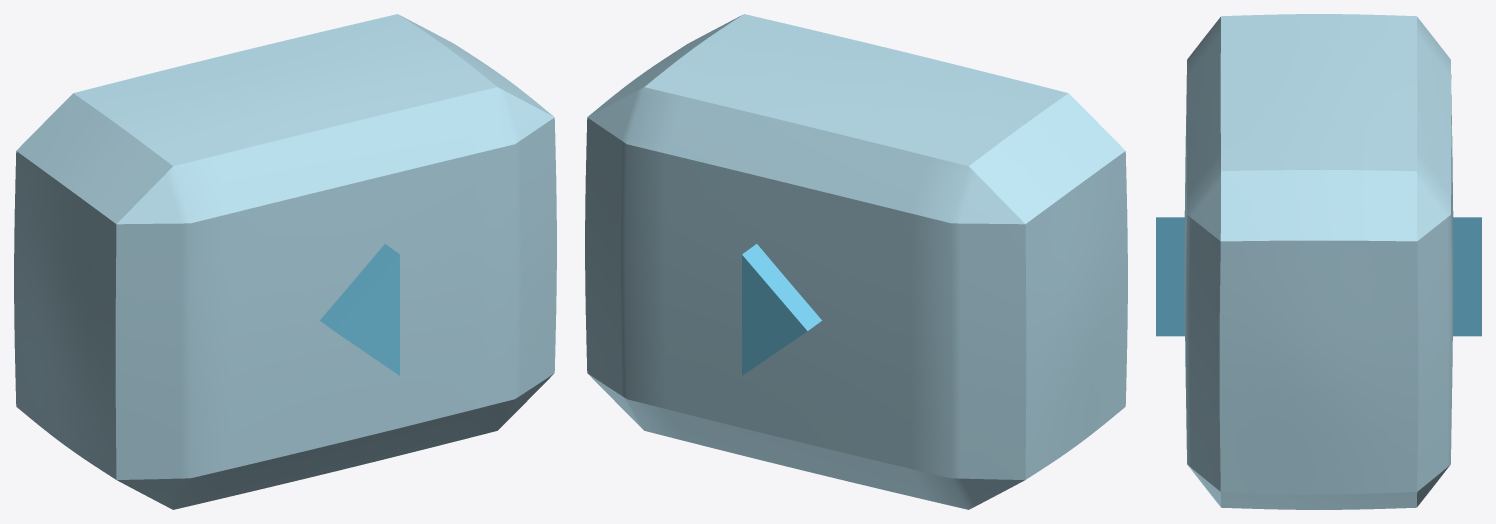
Rendered from play_button_animation_frame3.fbx.
3 renders of one model, left to right at view 1: azimuth 30°, elevation 25°; view 2: azimuth 150°, elevation 25°; view 3: azimuth 270°, elevation 25°, orthographic. The views are drawn at different scales.
Parts seen in each view (by area): view 1: Button, Triangle; view 2: Button, Triangle; view 3: Button, Triangle.
Boxes of the visible parts, left/top/right/bottom form: Button: left=14, top=14, right=556, bottom=509; Triangle: left=320, top=244, right=399, bottom=375; Button: left=585, top=14, right=1127, bottom=509; Triangle: left=742, top=244, right=821, bottom=375; Button: left=1184, top=14, right=1453, bottom=509; Triangle: left=1156, top=217, right=1481, bottom=336.
Bounding box in the file's own units: 382 × 285 × 245.
